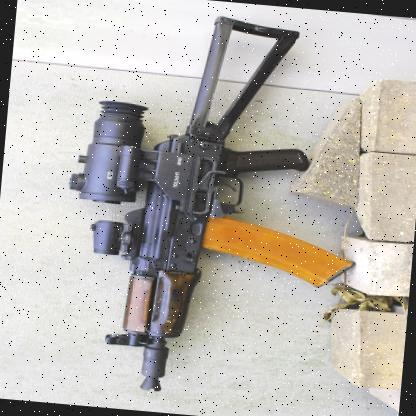rifle: (36, 1, 365, 406)
